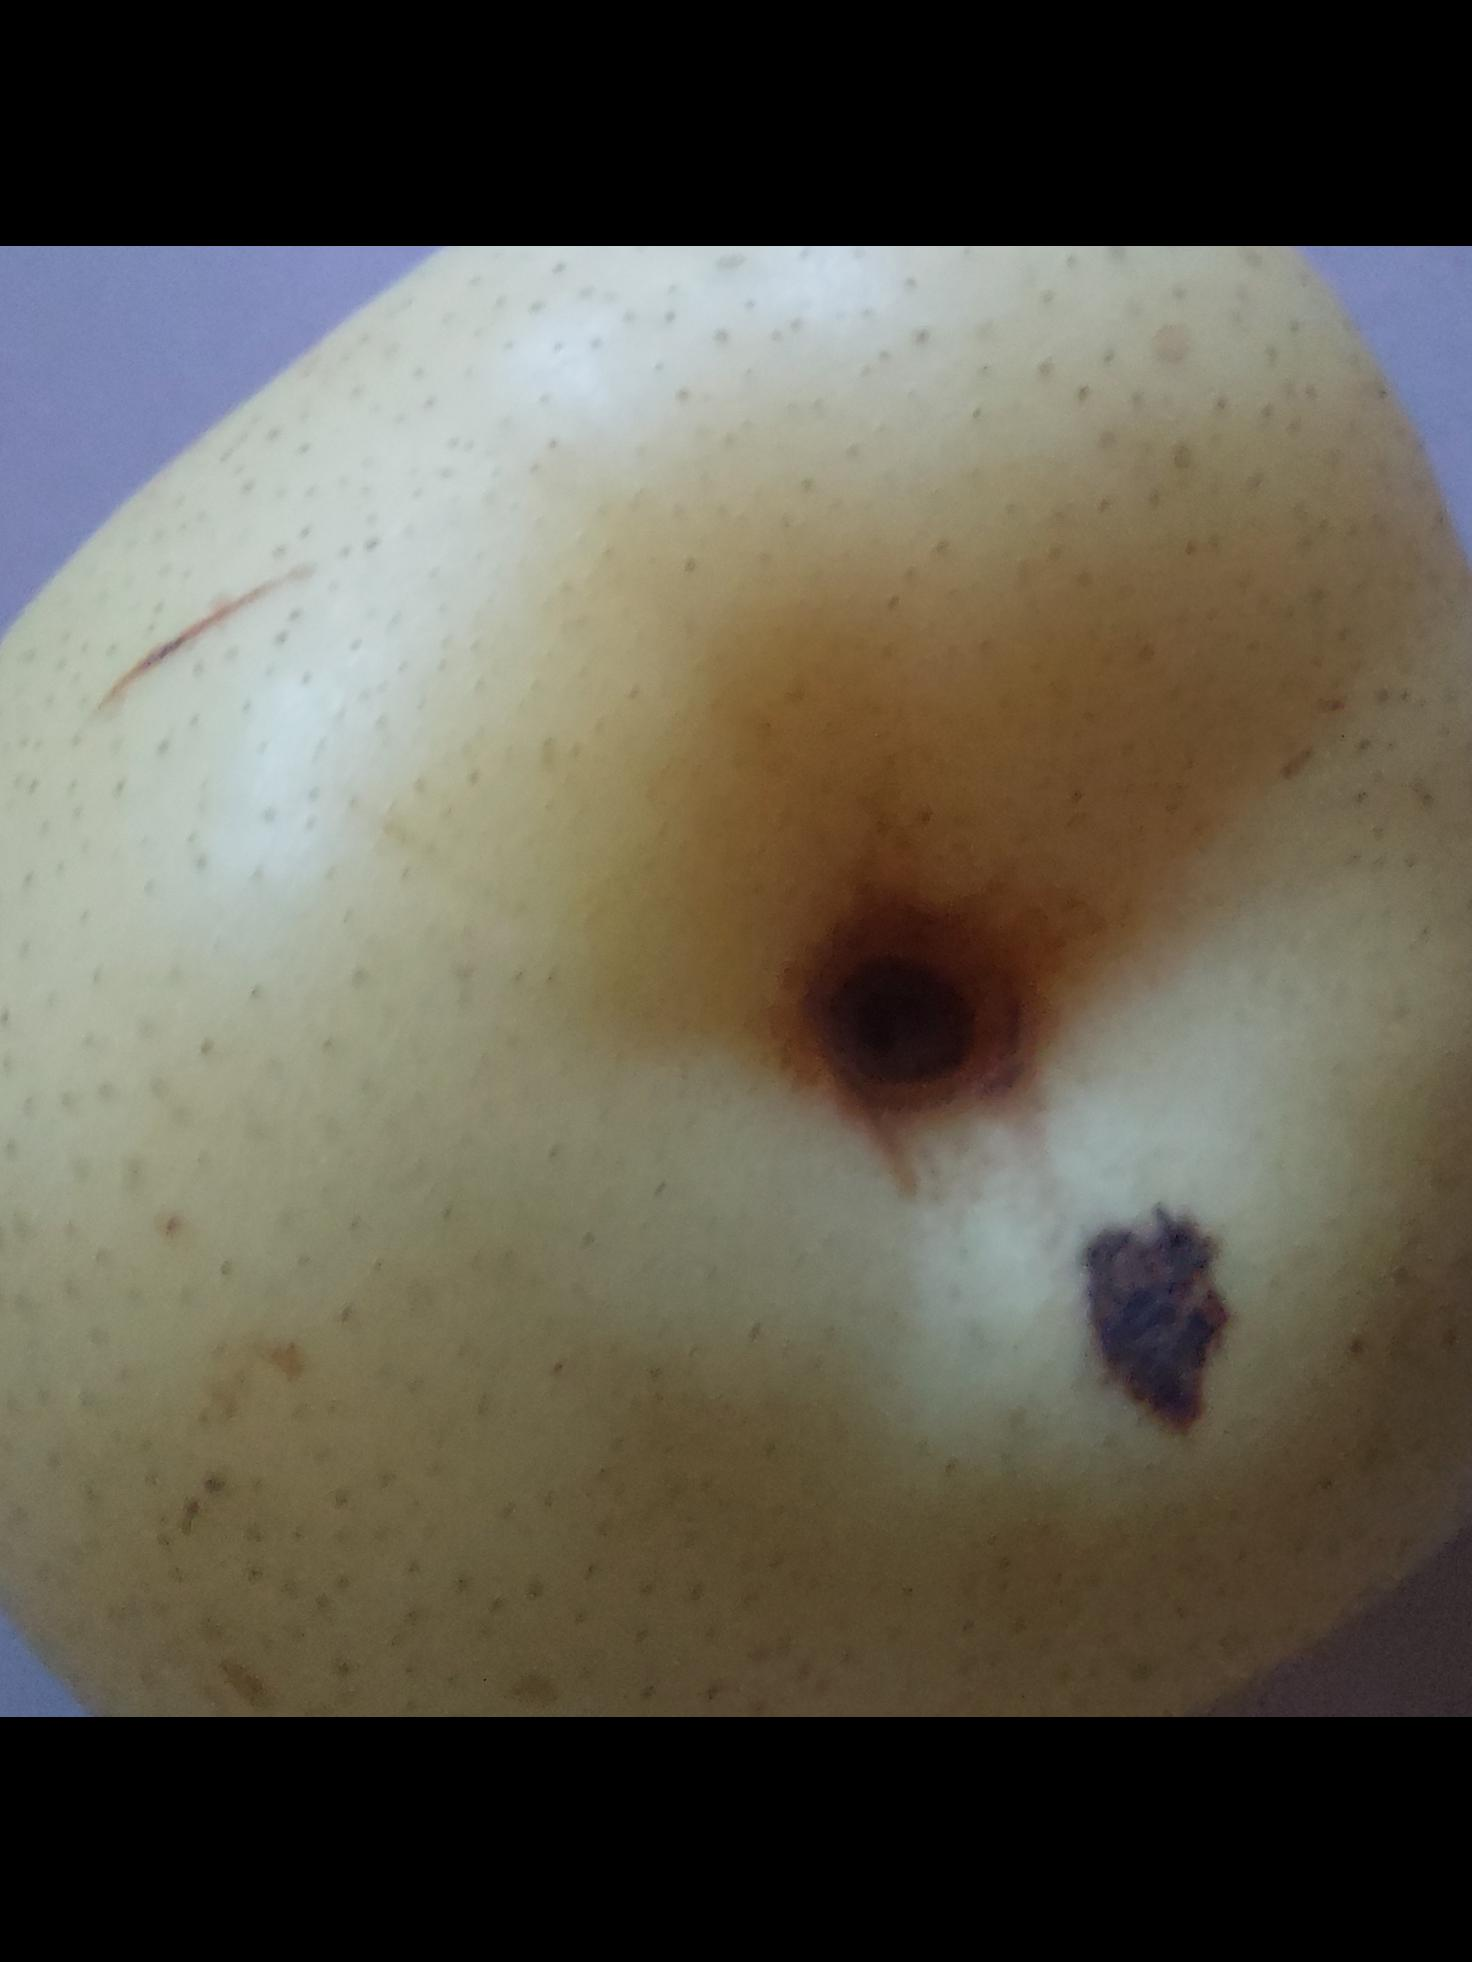Good Pear: (0, 244, 1472, 1716)
